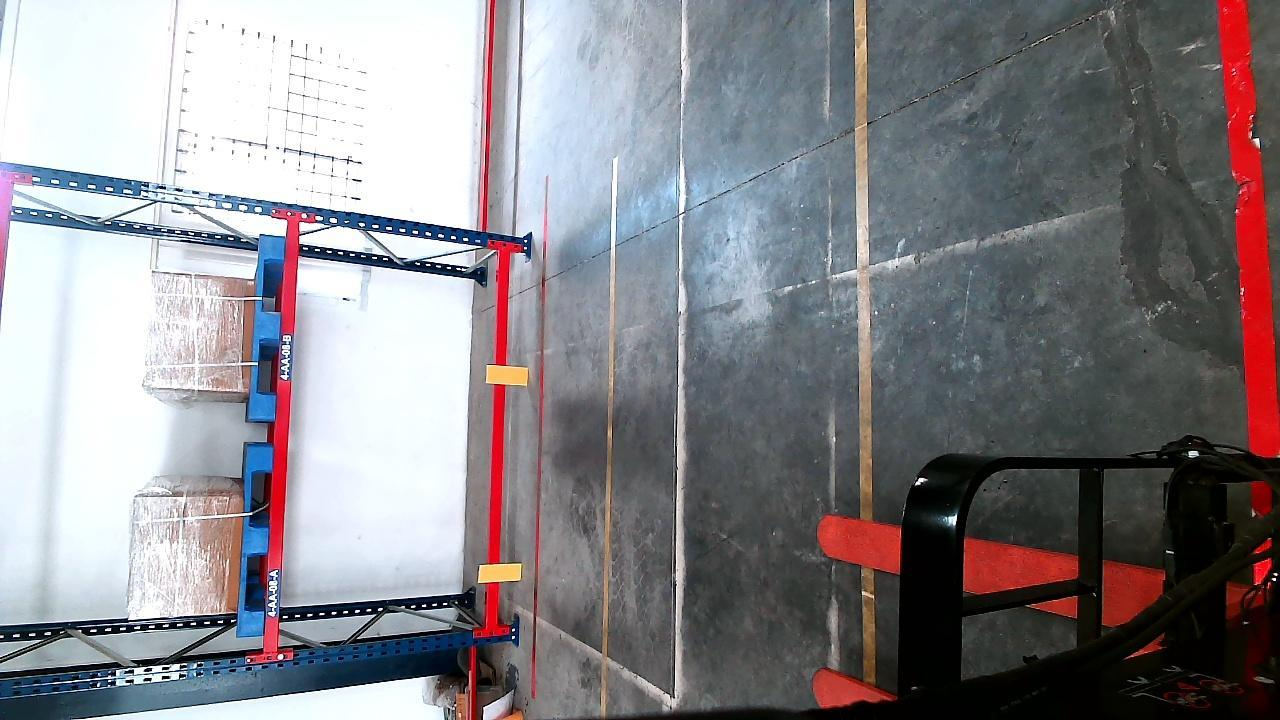yellow_line: (1207, 0, 1280, 455), (596, 173, 624, 720), (847, 1, 876, 519)
